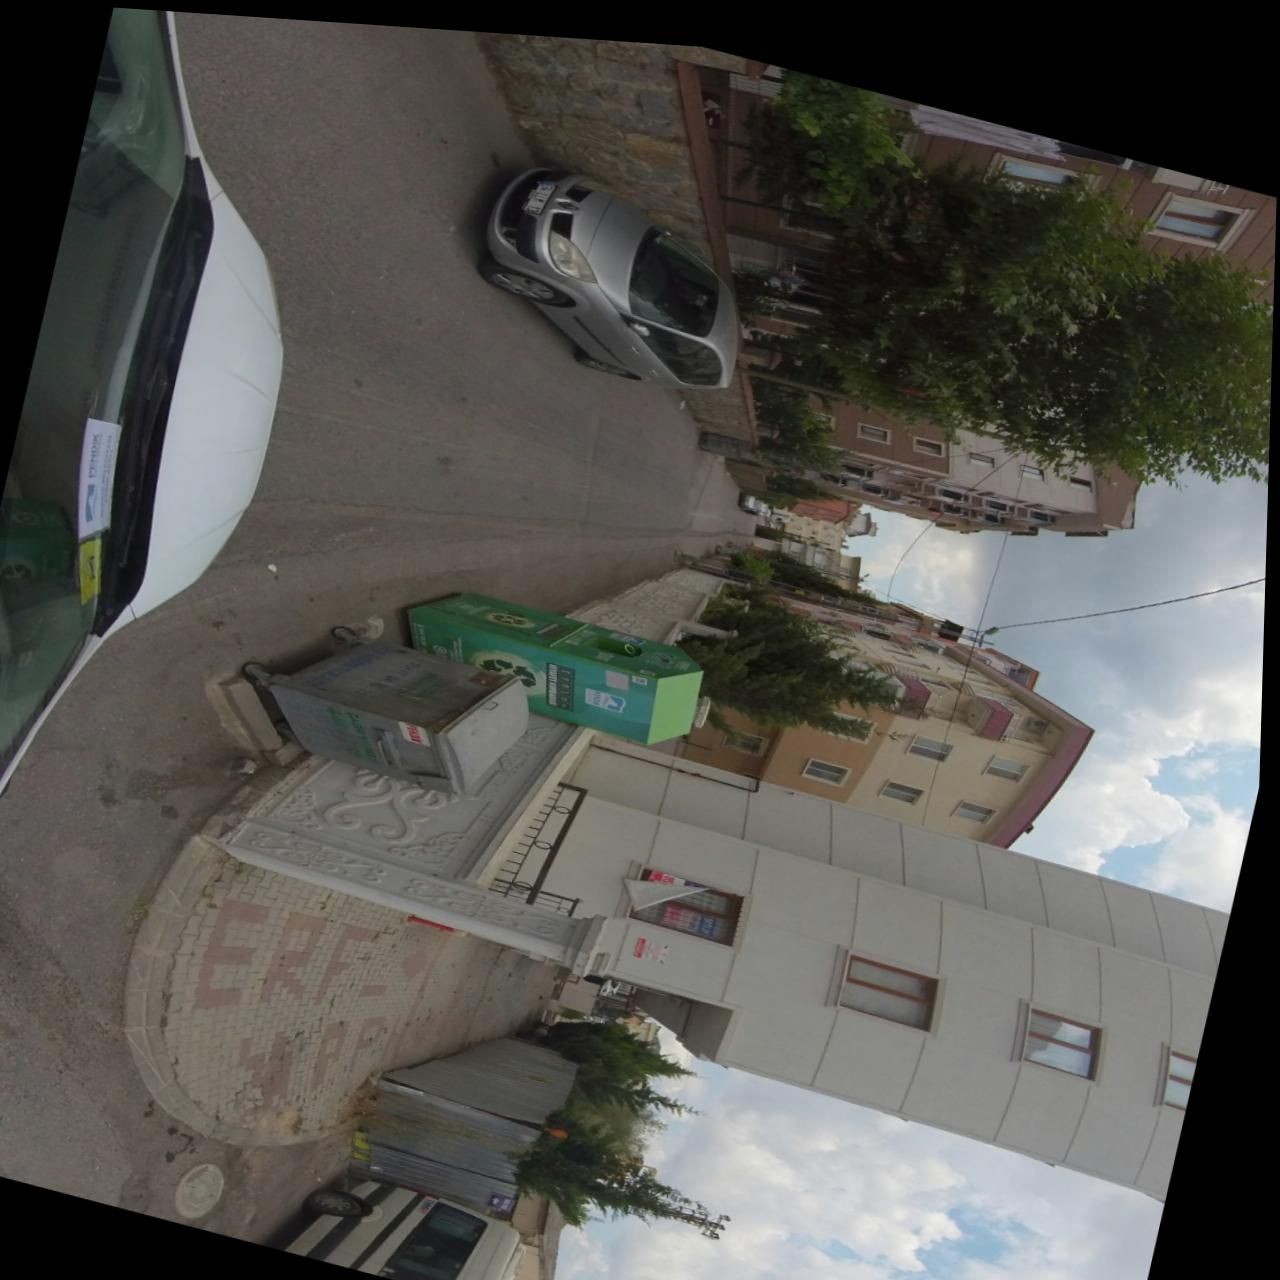Utility Pole Information Plate: (797, 578, 806, 583)
